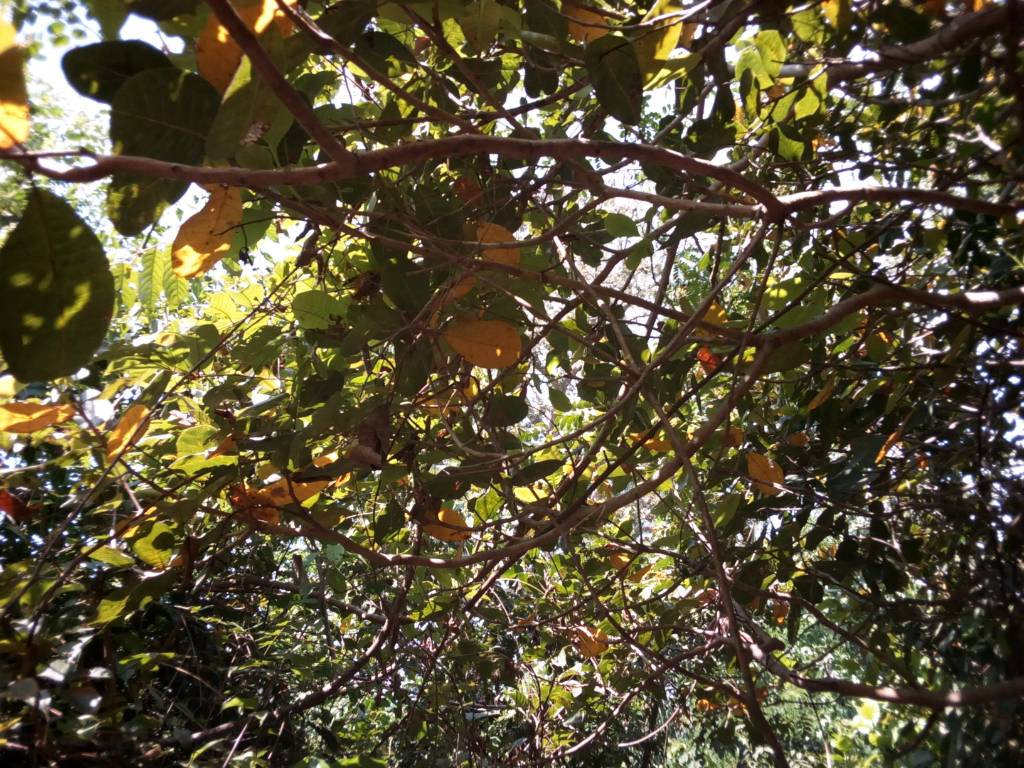Alternariose: (171, 187, 240, 283), (444, 316, 521, 368)
